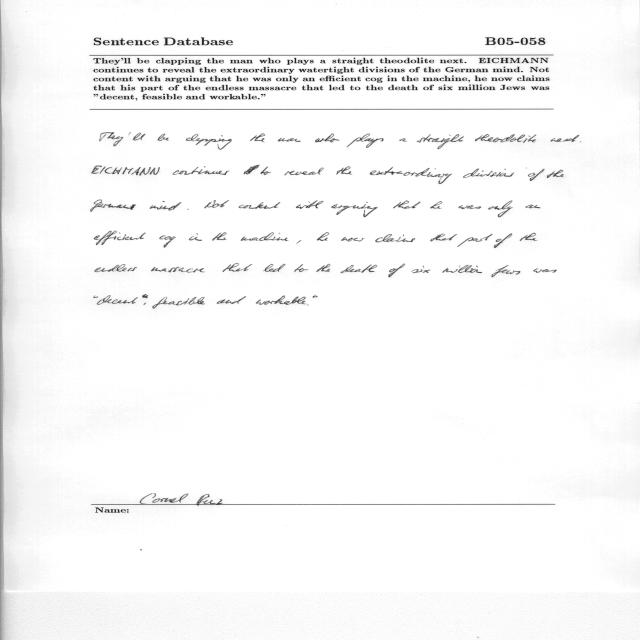word: (369, 167, 452, 184), (186, 134, 232, 150), (94, 231, 146, 245), (417, 134, 464, 149), (331, 202, 378, 217), (92, 166, 160, 176), (463, 168, 527, 178), (152, 297, 205, 309), (97, 294, 148, 305), (475, 134, 536, 143), (91, 200, 136, 212), (256, 296, 308, 306), (347, 134, 384, 148), (173, 166, 230, 175), (457, 234, 493, 247), (241, 232, 289, 241), (488, 201, 513, 218), (492, 265, 521, 277), (100, 133, 124, 147), (95, 264, 137, 272), (151, 267, 205, 273), (376, 234, 416, 242), (442, 265, 482, 273), (285, 168, 324, 176), (239, 202, 281, 209), (150, 201, 182, 210), (341, 265, 377, 273), (494, 233, 512, 248), (223, 263, 252, 272), (296, 200, 323, 209), (217, 296, 246, 304), (393, 201, 421, 209), (159, 235, 176, 248), (388, 264, 405, 277), (315, 134, 339, 143), (431, 234, 458, 242), (551, 135, 580, 142), (204, 200, 229, 208), (528, 169, 544, 181), (263, 264, 285, 272), (412, 266, 431, 274), (128, 133, 146, 141), (244, 165, 260, 174), (547, 170, 564, 178), (520, 233, 537, 241), (250, 134, 265, 143), (212, 232, 227, 241), (336, 167, 352, 175), (294, 264, 309, 272), (533, 268, 557, 273), (317, 264, 331, 272), (317, 232, 329, 241), (189, 233, 202, 241), (157, 133, 169, 141), (430, 201, 442, 209), (341, 237, 365, 241), (278, 138, 301, 142), (459, 205, 481, 209), (261, 167, 271, 175), (526, 205, 541, 209), (399, 138, 407, 142), (297, 240, 302, 244), (313, 295, 318, 298), (94, 296, 98, 298), (144, 303, 146, 305), (187, 209, 189, 210), (580, 142, 581, 143)
